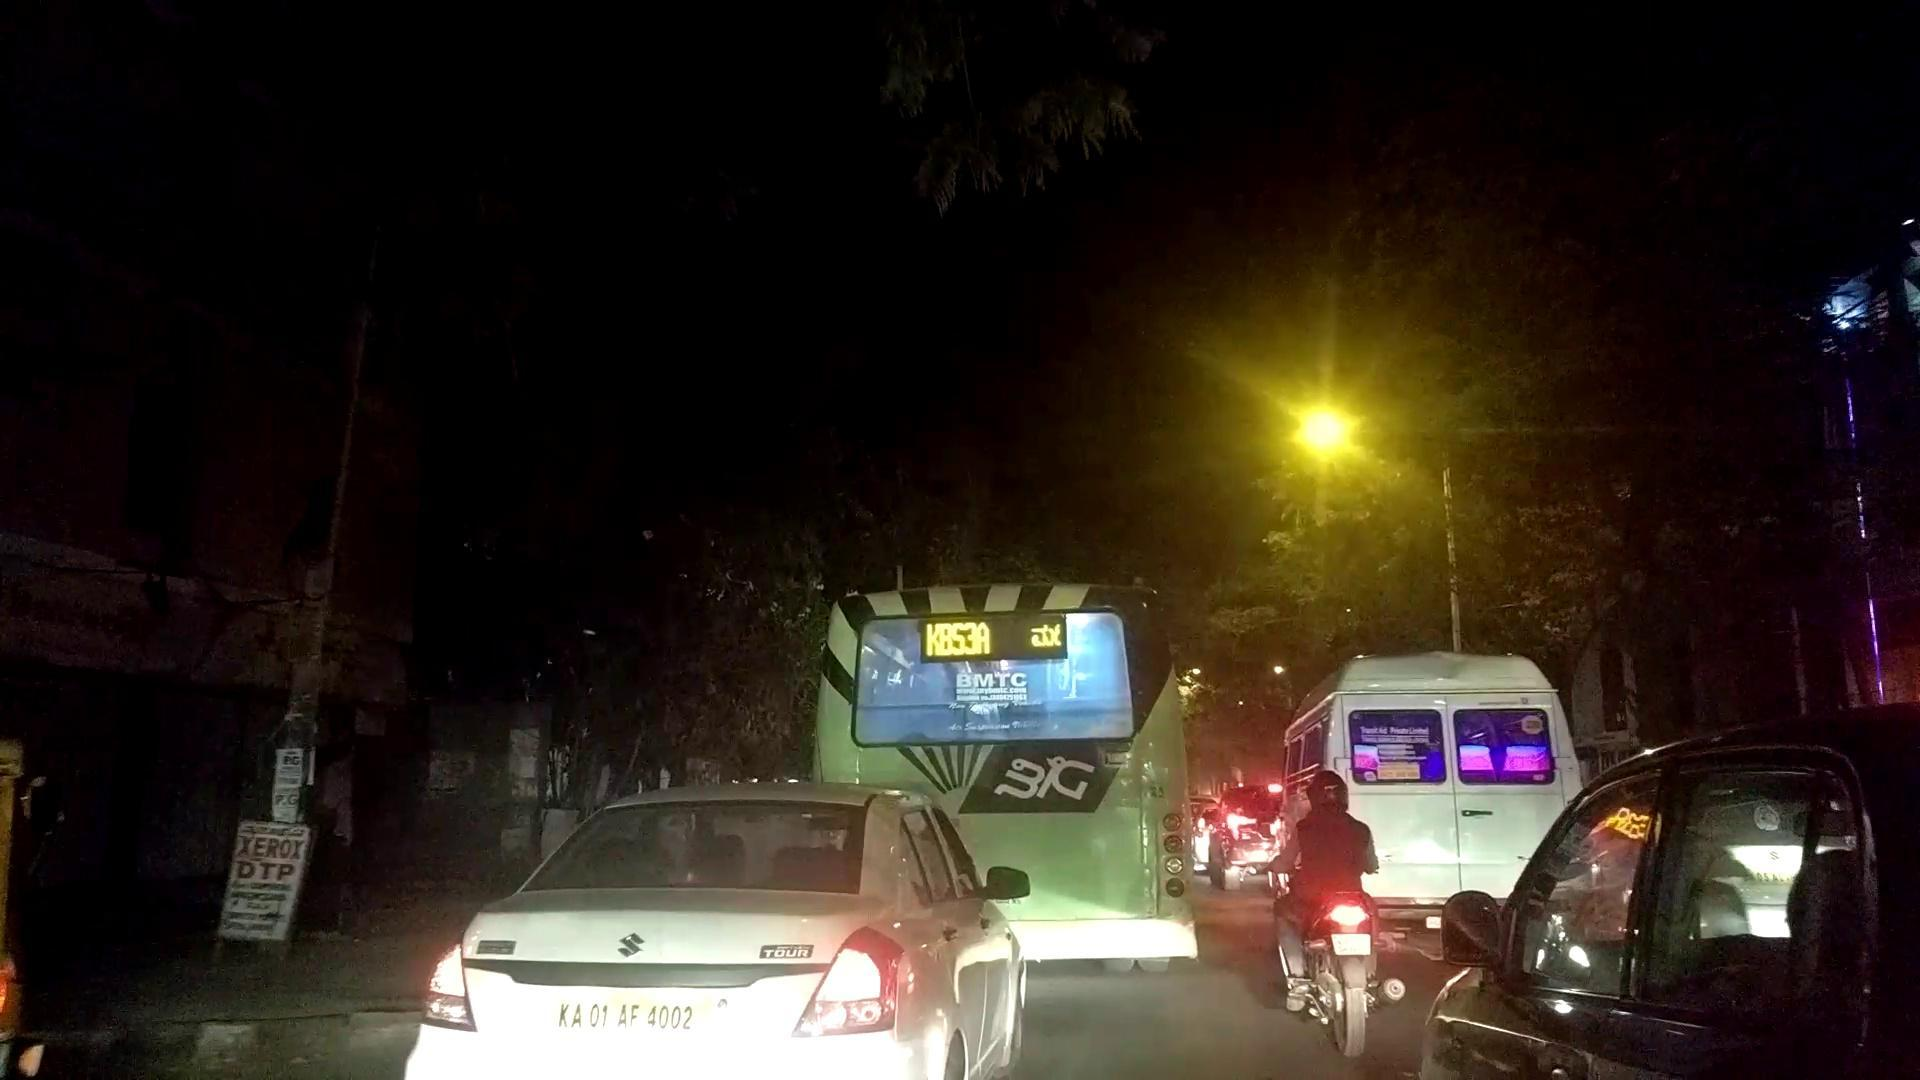on: (90, 42, 1920, 1080)
